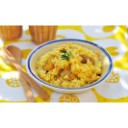briyani: (40, 46, 101, 85)
